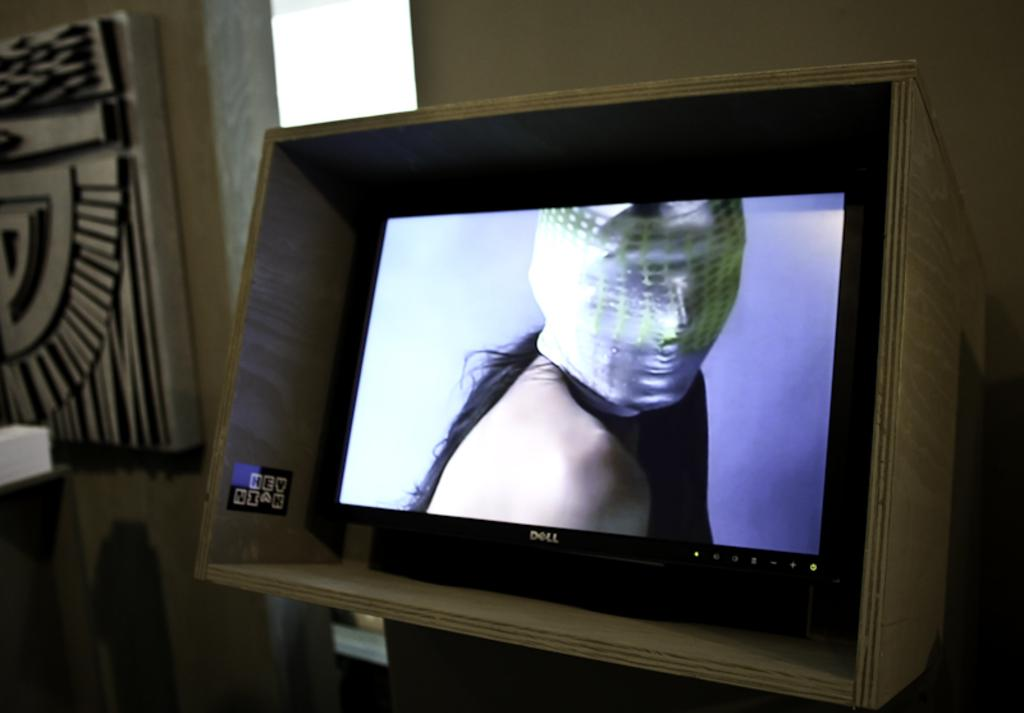Computer-monitor: (293, 173, 896, 608)
